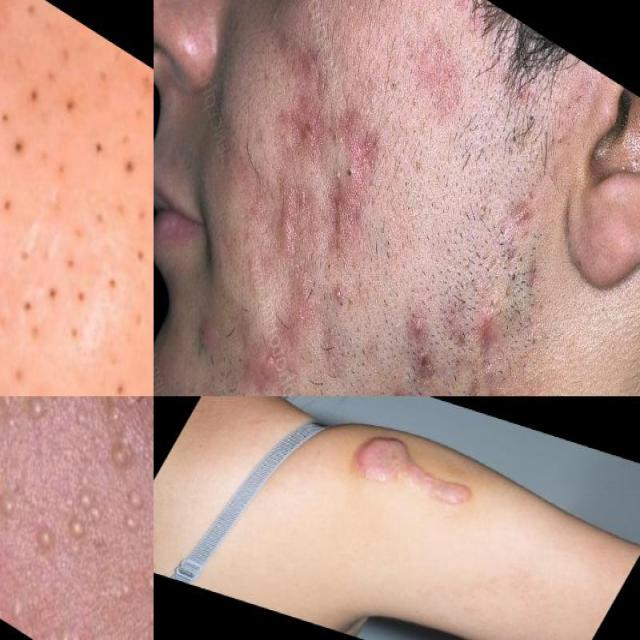Pimples: (334, 427, 492, 520), (0, 262, 91, 366), (32, 228, 106, 338), (64, 396, 154, 481), (105, 90, 154, 232), (62, 476, 113, 562), (114, 190, 154, 276), (78, 108, 122, 178), (14, 62, 55, 124), (52, 76, 92, 131), (116, 482, 152, 542), (1, 121, 39, 173), (333, 149, 367, 204), (1, 397, 54, 428), (29, 514, 59, 562), (0, 478, 26, 531), (0, 176, 26, 226), (461, 368, 505, 396), (108, 365, 141, 396), (54, 618, 90, 640), (138, 562, 154, 603)
